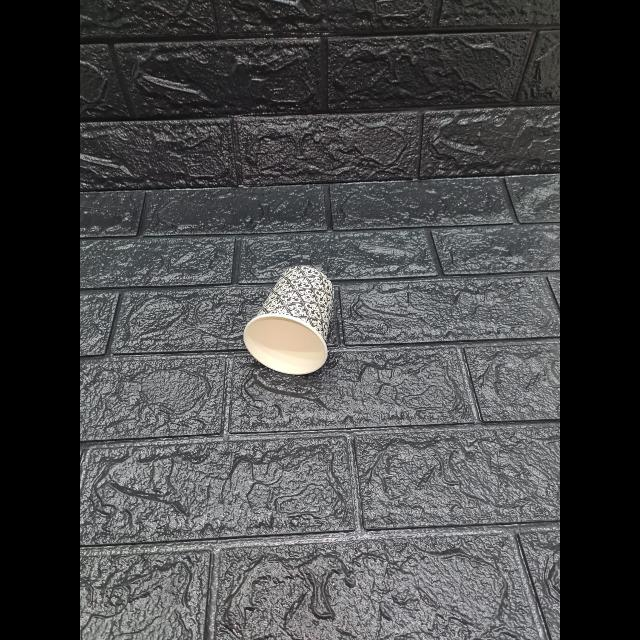trash: (236, 263, 340, 379)
